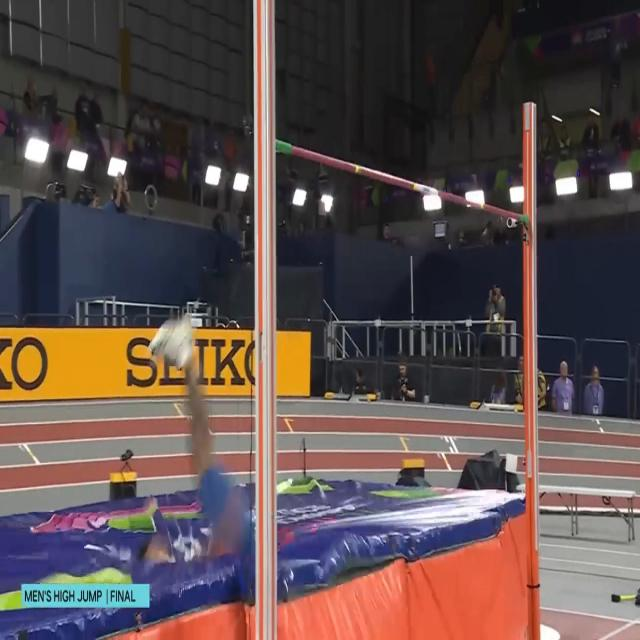land: (134, 309, 250, 571)
